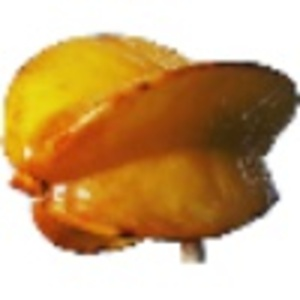carambola: (1, 31, 300, 266)
